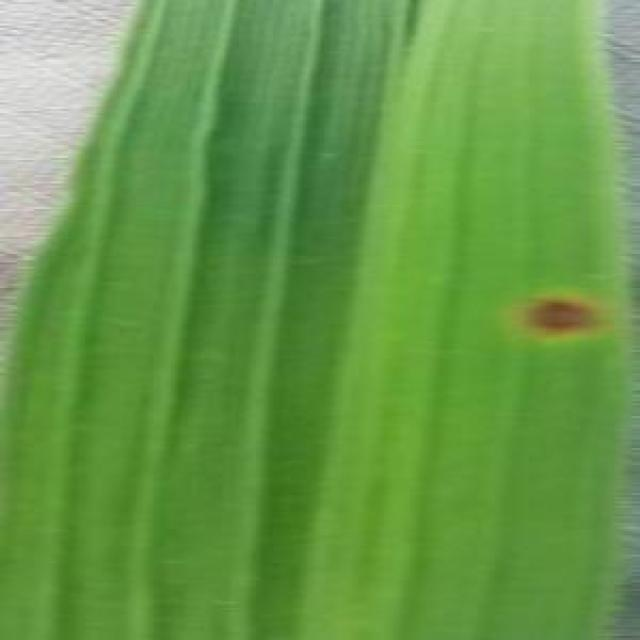Brown_Spot: (515, 290, 603, 344)
